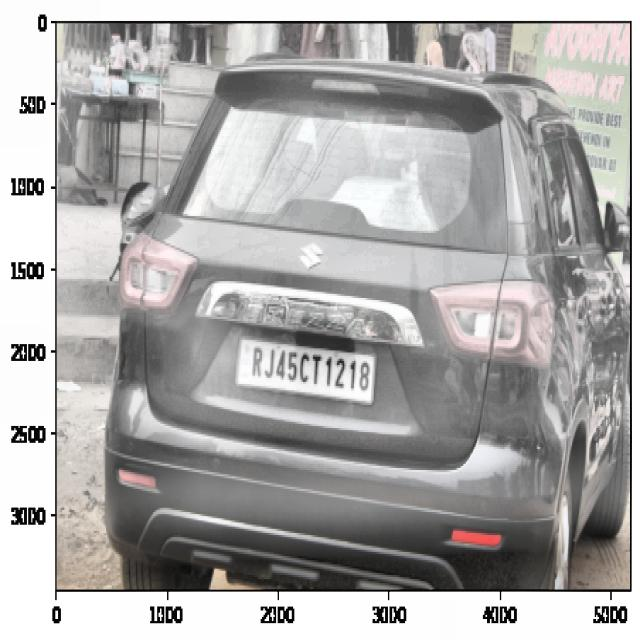license_plate: (245, 342, 372, 398)
